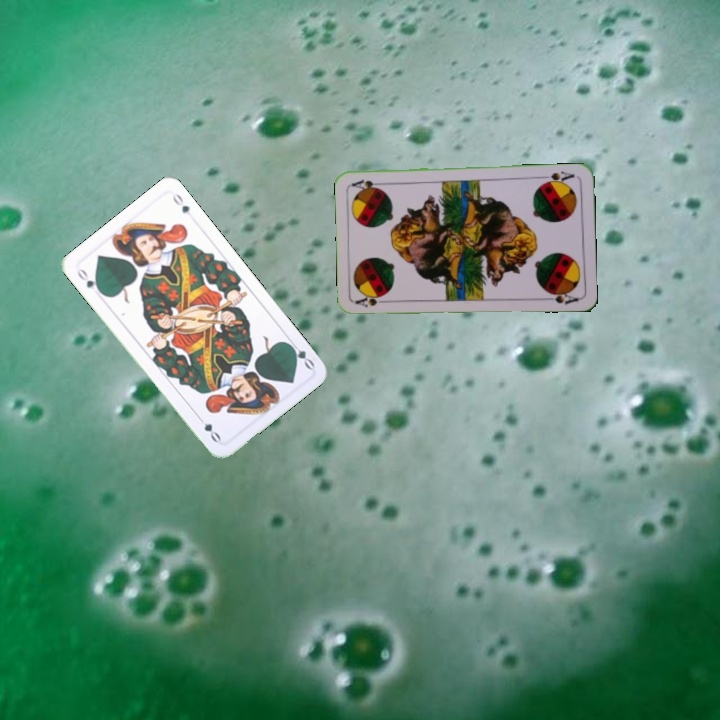GO: (283, 336, 317, 372), (73, 264, 105, 297)
SA: (538, 167, 577, 187), (352, 291, 392, 310)
